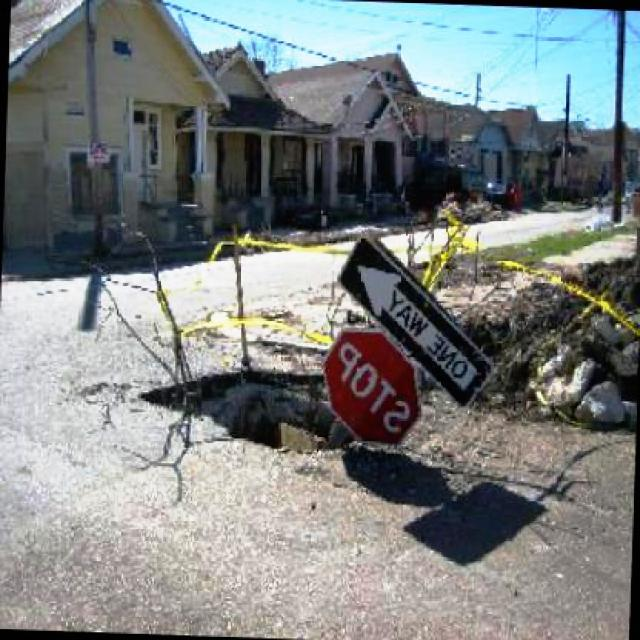pothole: (142, 362, 360, 463)
